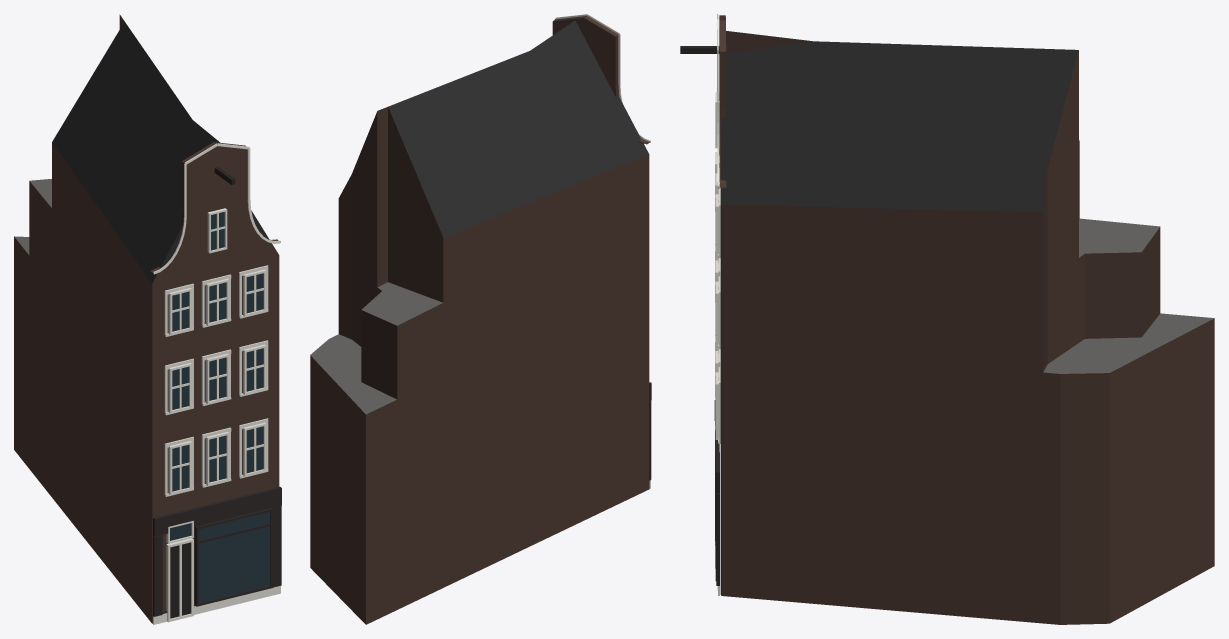
3 renders of one model, left to right at view 1: azimuth 30°, elevation 25°; view 2: azimuth 150°, elevation 25°; view 3: azimuth 270°, elevation 25°, orthographic. The views are drawn at different scales.
Visible parts, largest first — view 1: spec-0363100012177934; view 2: spec-0363100012177934; view 3: spec-0363100012177934.
Boxes of the visible parts, x1,y1,x2,y2 form: spec-0363100012177934: (14, 14, 281, 624); spec-0363100012177934: (310, 14, 651, 624); spec-0363100012177934: (680, 14, 1214, 624).
Size of the model in its own units: 6.59 by 16.47 by 14.7.
